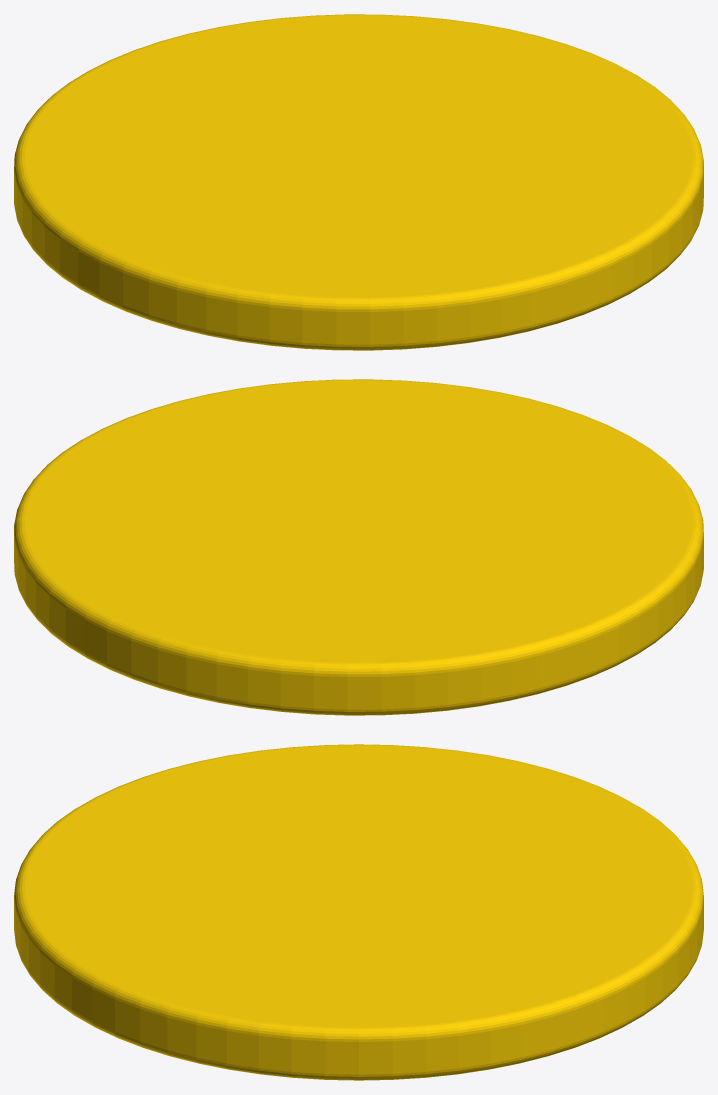
The picture shows the model from 3 angles, top to bottom: view 1: azimuth 30°, elevation 25°; view 2: azimuth 150°, elevation 25°; view 3: azimuth 270°, elevation 25°; orthographic projection.
Parts seen in each view (by area): view 1: Circle; view 2: Circle; view 3: Circle.
Boxes of the visible parts, left/top/right/bottom form: Circle: left=14, top=14, right=703, bottom=350; Circle: left=14, top=379, right=703, bottom=715; Circle: left=14, top=744, right=703, bottom=1080.
Size of the model in its own units: 3.97 by 0.328 by 3.97.
